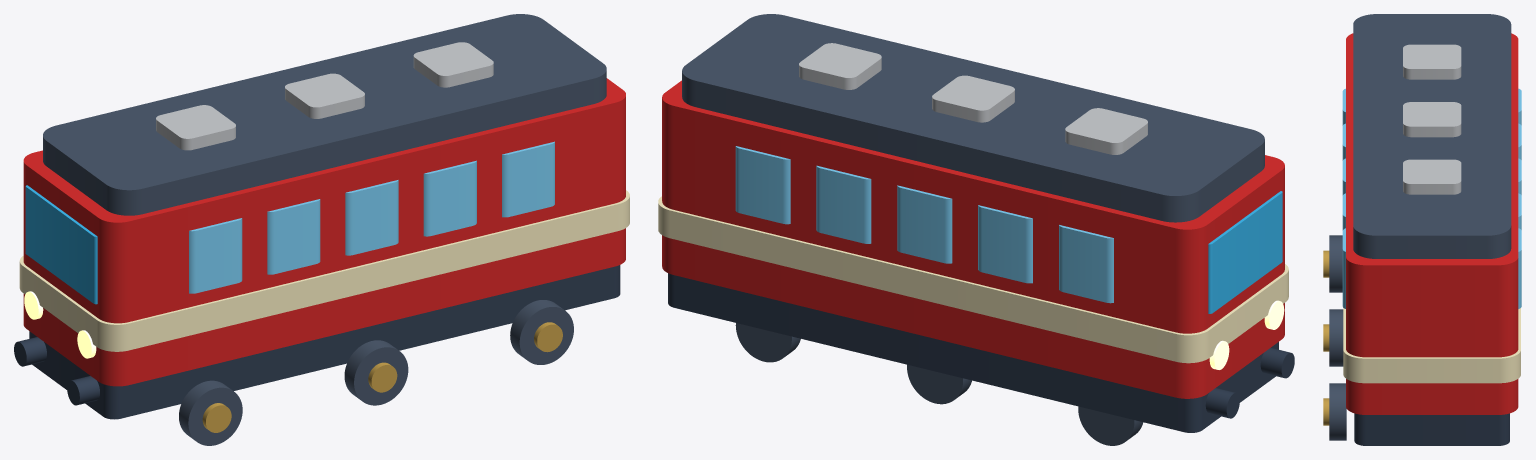
The model's file is train.glb.
The picture shows the model from 3 angles, left to right: view 1: azimuth 30°, elevation 25°; view 2: azimuth 150°, elevation 25°; view 3: azimuth 270°, elevation 25°; orthographic projection. The views are drawn at different scales.
Parts seen in each view (by area): view 1: body, roof, stripe, chassis, front_win, side_win_2, side_win_0, side_win_1, side_win_3, side_win_4, vent_2, vent_0 (+9 smaller); view 2: body, roof, chassis, stripe, front_win, side_win_4, side_win_3, side_win_2, side_win_1, side_win_0, vent_1, vent_0 (+6 smaller); view 3: roof, body, stripe, chassis, vent_0, vent_2, vent_1, wheel_0_2, wheel_0_1, wheel_0_0, side_win_4, side_win_2 (+3 smaller).
Boxes of the visible parts, x1,y1,x2,y2 form: body: [23, 78, 625, 386]; roof: [43, 14, 606, 215]; stripe: [19, 190, 629, 351]; chassis: [29, 265, 620, 419]; front_win: [25, 185, 97, 304]; side_win_2: [345, 180, 398, 255]; side_win_0: [189, 218, 242, 293]; side_win_1: [267, 199, 320, 274]; side_win_3: [423, 160, 476, 236]; side_win_4: [502, 141, 554, 217]; vent_2: [413, 42, 493, 87]; vent_0: [156, 105, 235, 150]; body: [662, 80, 1284, 398]; roof: [682, 14, 1264, 222]; chassis: [668, 273, 1278, 432]; stripe: [658, 196, 1288, 363]; front_win: [1208, 191, 1282, 313]; side_win_4: [735, 146, 790, 224]; side_win_3: [816, 165, 871, 243]; side_win_2: [897, 185, 952, 263]; side_win_1: [978, 205, 1032, 283]; side_win_0: [1059, 225, 1113, 303]; vent_1: [932, 75, 1014, 122]; vent_0: [1065, 108, 1147, 154]; roof: [1353, 14, 1511, 258]; body: [1346, 33, 1518, 414]; stripe: [1343, 308, 1520, 383]; chassis: [1354, 413, 1509, 445]; vent_0: [1403, 44, 1461, 79]; vent_2: [1403, 159, 1461, 194]; vent_1: [1403, 102, 1461, 137]; wheel_0_2: [1329, 383, 1346, 440]; wheel_0_1: [1329, 309, 1343, 366]; wheel_0_0: [1329, 235, 1342, 292]; side_win_4: [1342, 228, 1521, 308]; side_win_2: [1342, 158, 1521, 195].
Size of the model in its own units: 1.18 by 0.567 by 0.408.
